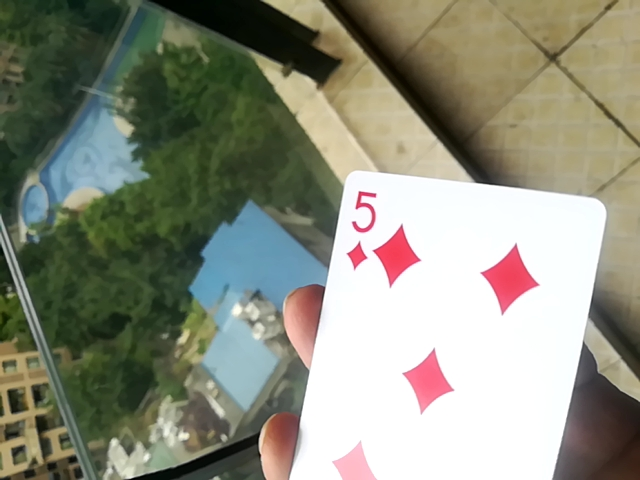fk 5: (276, 168, 609, 478)
